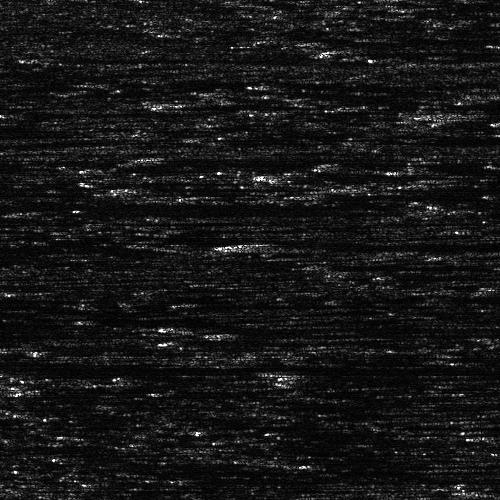object: (348, 103, 500, 122), (158, 238, 325, 251), (276, 181, 401, 194), (129, 323, 234, 334), (70, 184, 175, 193), (264, 368, 337, 375), (0, 54, 61, 61), (0, 364, 28, 373), (58, 179, 99, 184), (476, 119, 500, 124)
shadow: (0, 364, 500, 373), (242, 238, 500, 251), (0, 203, 347, 210), (338, 181, 500, 194), (182, 323, 353, 334), (30, 54, 290, 61), (301, 368, 500, 375), (432, 103, 500, 122), (123, 184, 208, 193), (78, 179, 164, 184)
